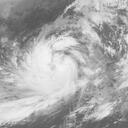cyclone: (13, 34, 81, 98)
